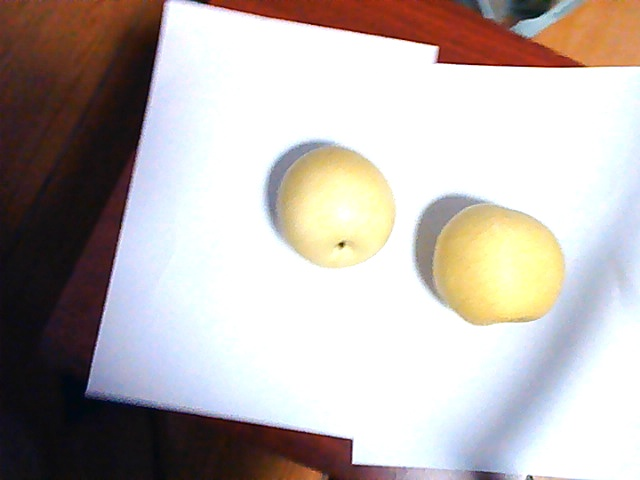pear: (432, 202, 564, 324), (280, 148, 393, 265)
